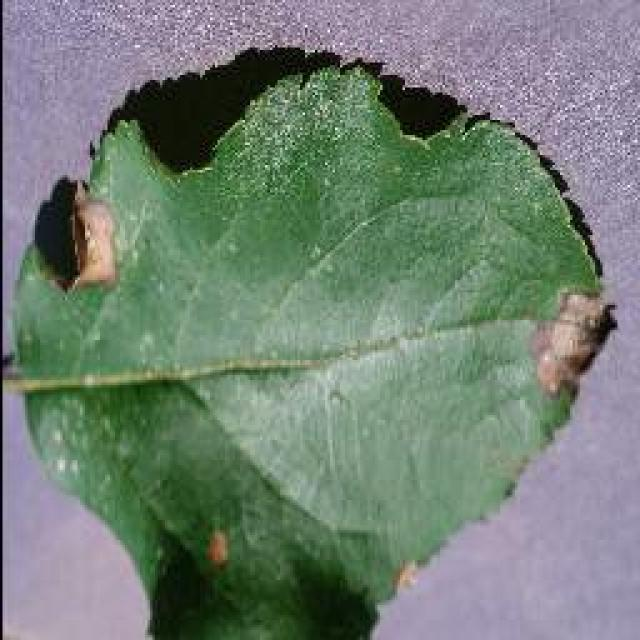apple scab disease: (8, 42, 618, 638)
